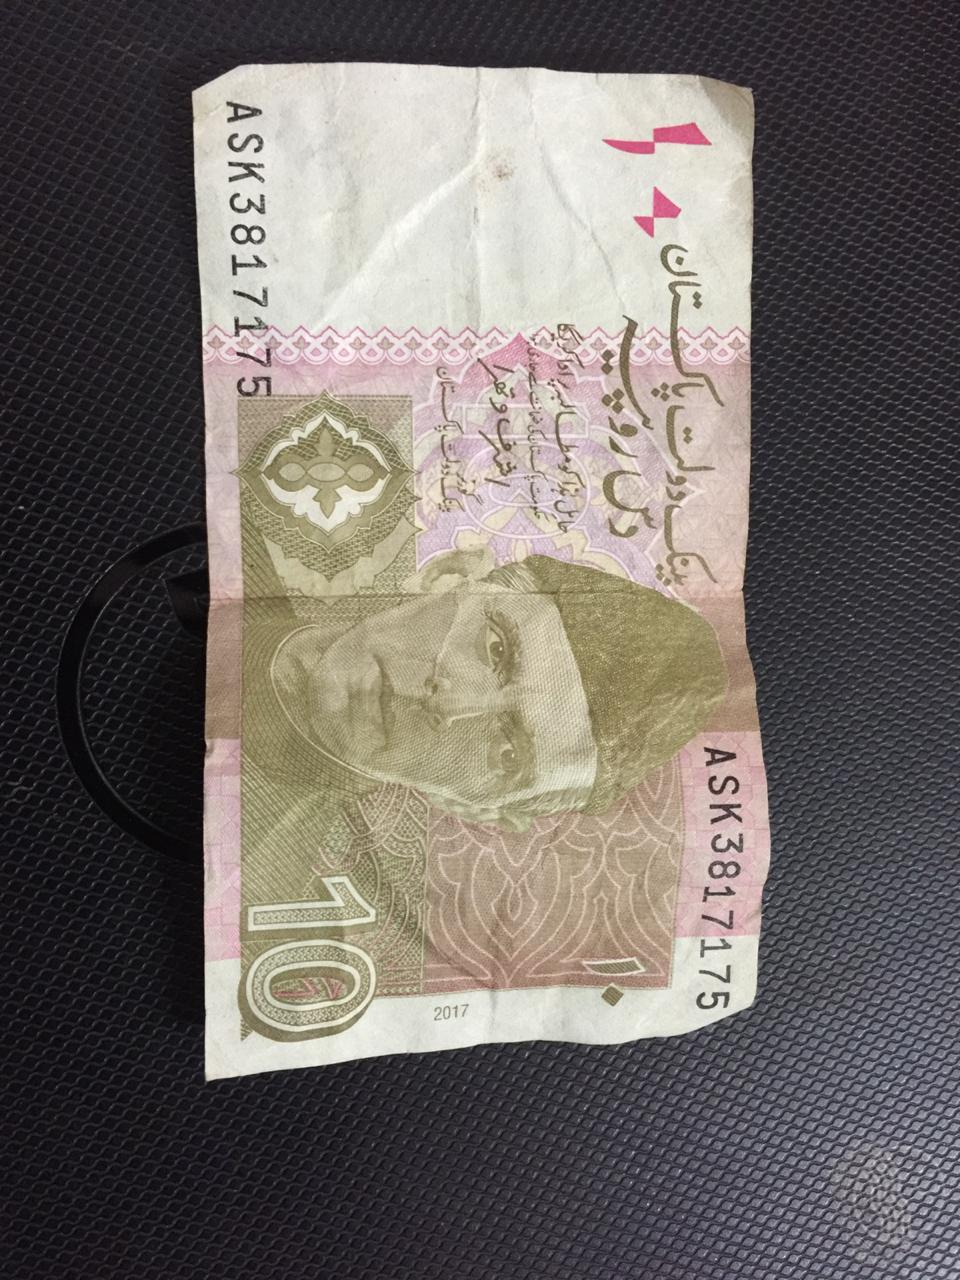10 rupee: (183, 46, 793, 1087)
